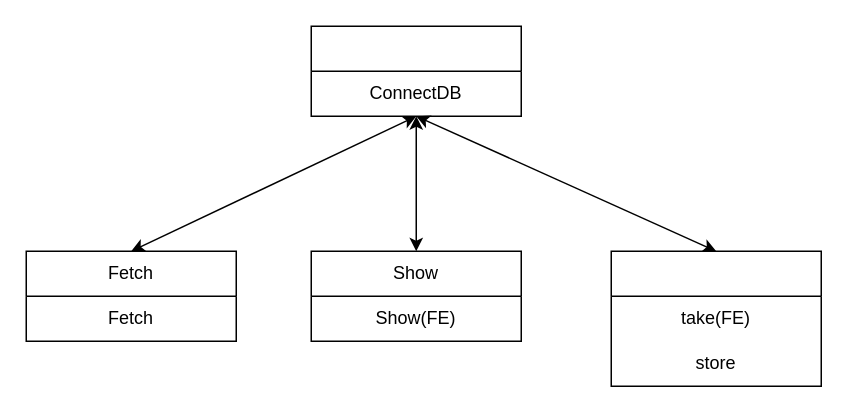
This 848x413 diagram has some shape labels left out. Each missing label, with the box of its shape:
CommentController: (310, 25, 521, 116)
Post: (610, 250, 821, 386)
